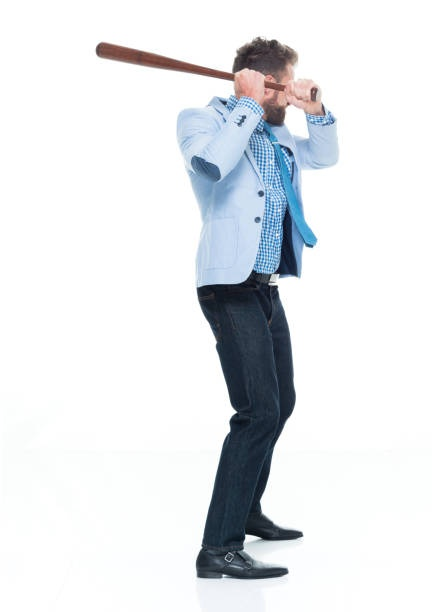bita: (86, 34, 329, 93)
